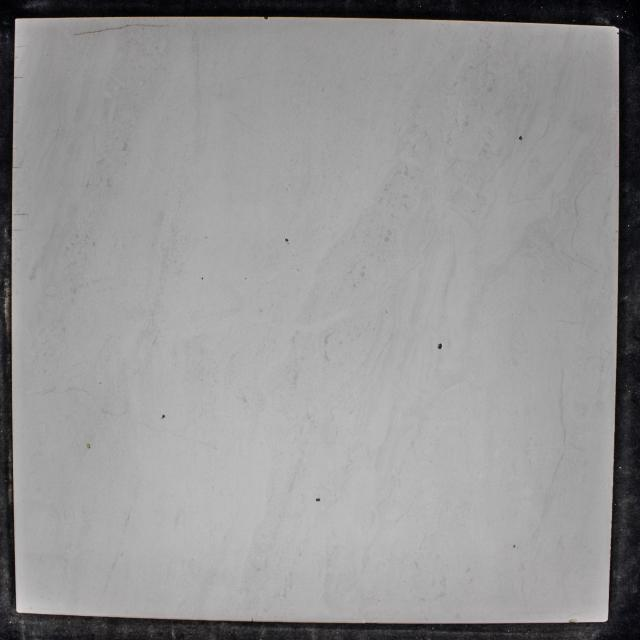edge-chipping: (264, 16, 268, 20)
hole: (438, 342, 443, 351), (315, 497, 321, 503), (284, 237, 290, 243), (518, 134, 523, 140), (160, 414, 166, 418), (201, 277, 204, 280)
line: (74, 24, 130, 36), (132, 23, 166, 28), (11, 213, 29, 216), (14, 45, 27, 48), (12, 76, 24, 79), (12, 229, 22, 231), (12, 166, 21, 168)
